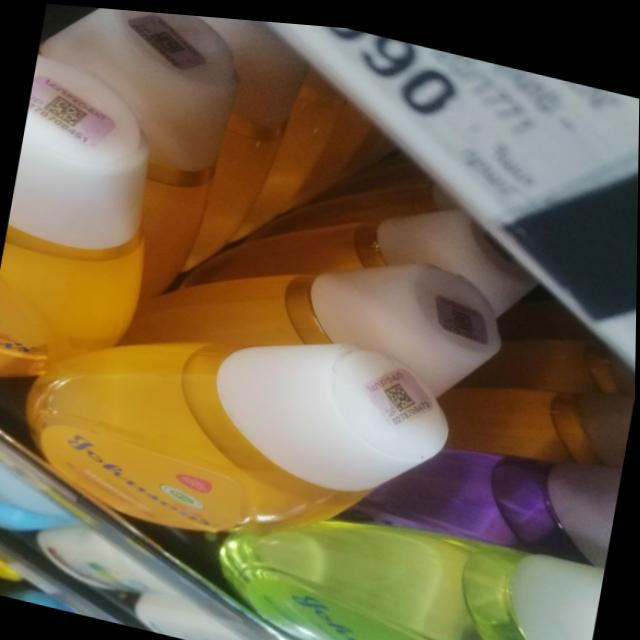datamatrix: (40, 90, 92, 131), (148, 22, 191, 59), (382, 373, 420, 411), (449, 299, 482, 329)
